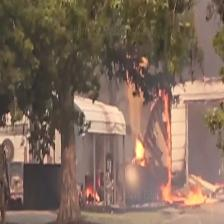fire: (127, 113, 216, 216)
